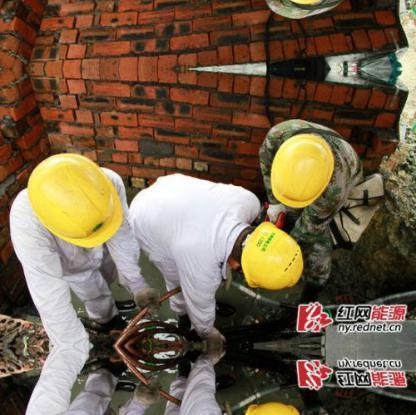helmet: (25, 147, 128, 250), (261, 123, 335, 211), (239, 217, 312, 291)
